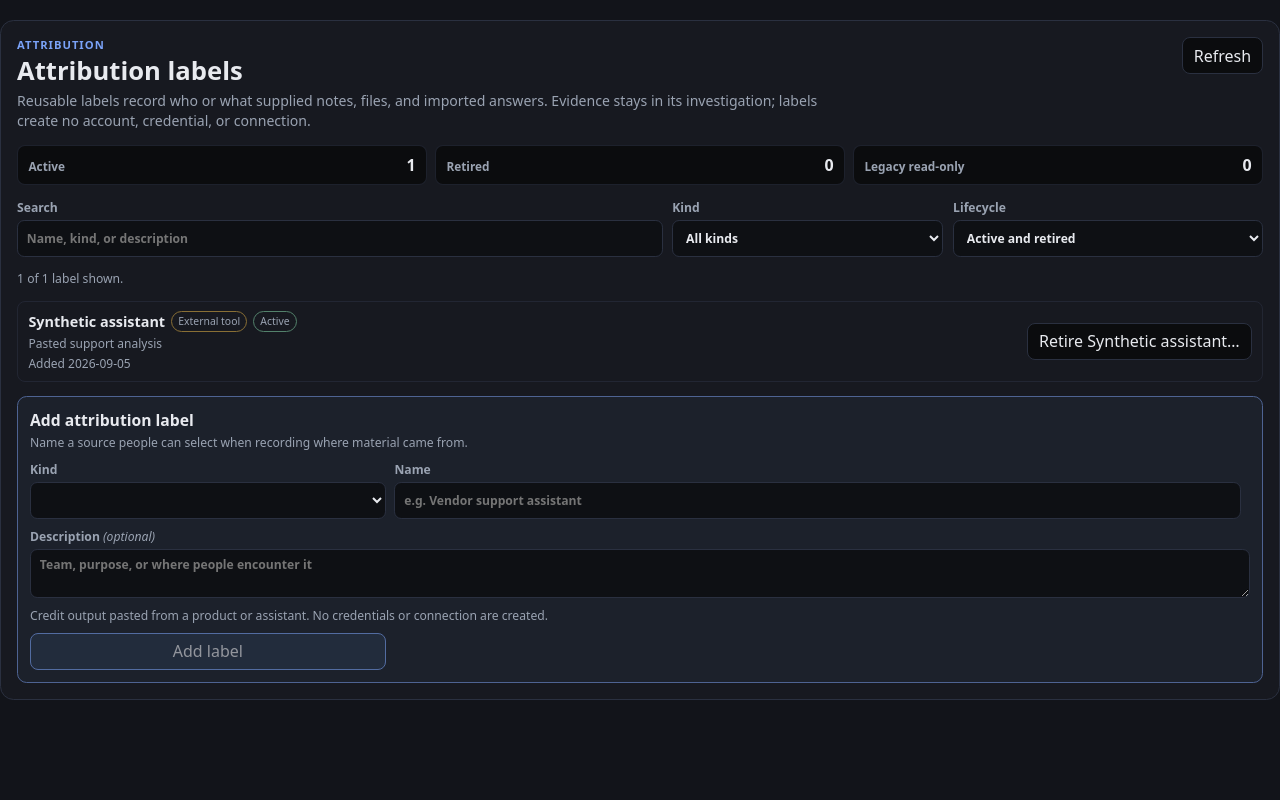
Source Catalog Console › renders a bounded 409 refusal, reconciles the row, and requires a new action
The image size is (1280, 800).
Select "Active" in the dropdown labelled "Lifecycle" at (1108, 238), box x1=953 y1=220 x2=1263 y2=257
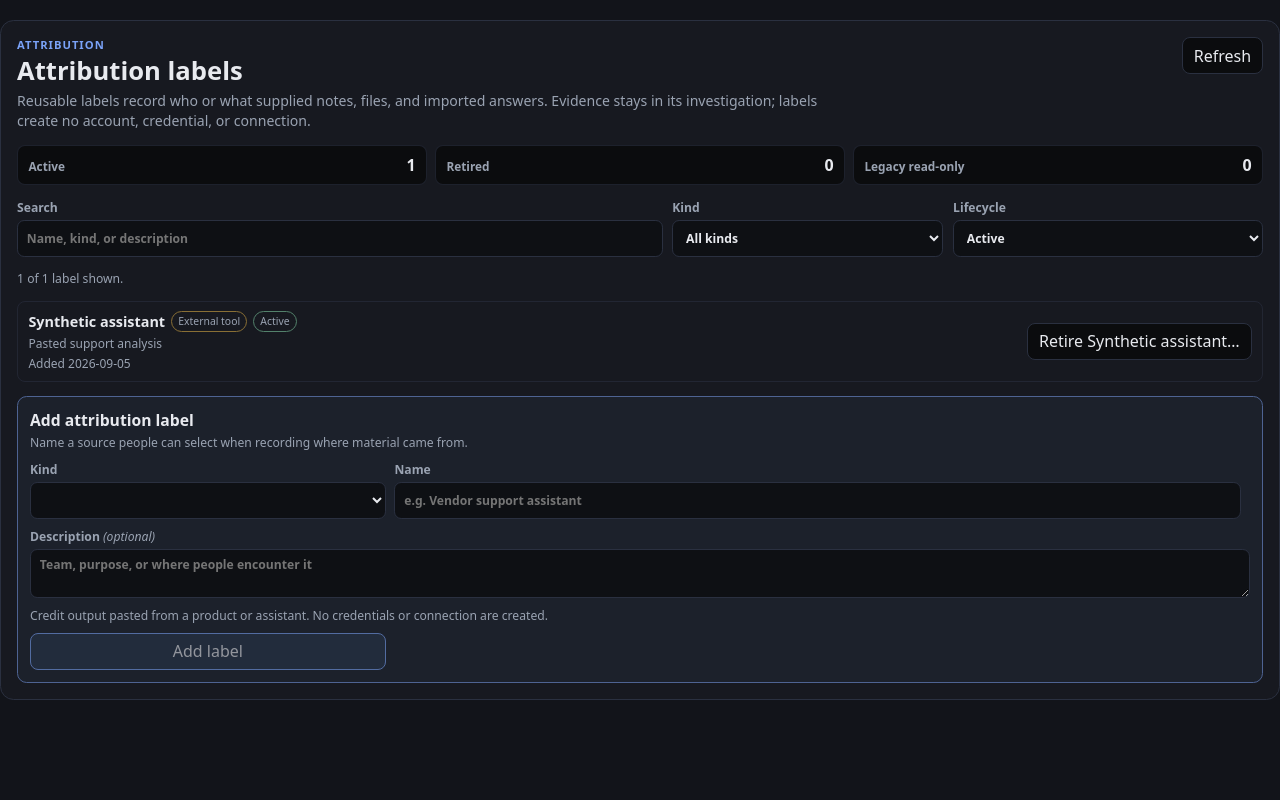
Click the button "Retire Synthetic assistant…".
click(1139, 342)  # box x1=1027 y1=323 x2=1252 y2=360
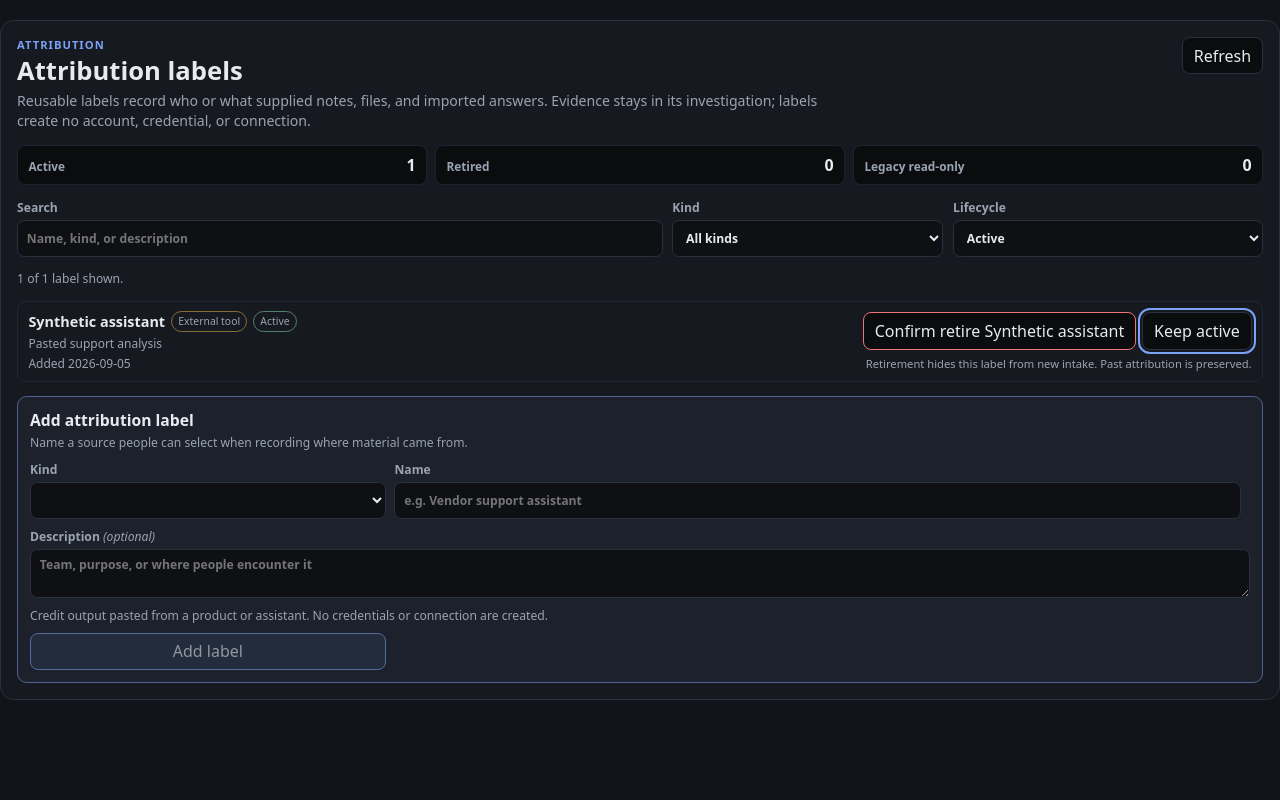
Click the button "Confirm retire Synthetic assistant".
click(999, 331)  # box x1=863 y1=312 x2=1136 y2=350
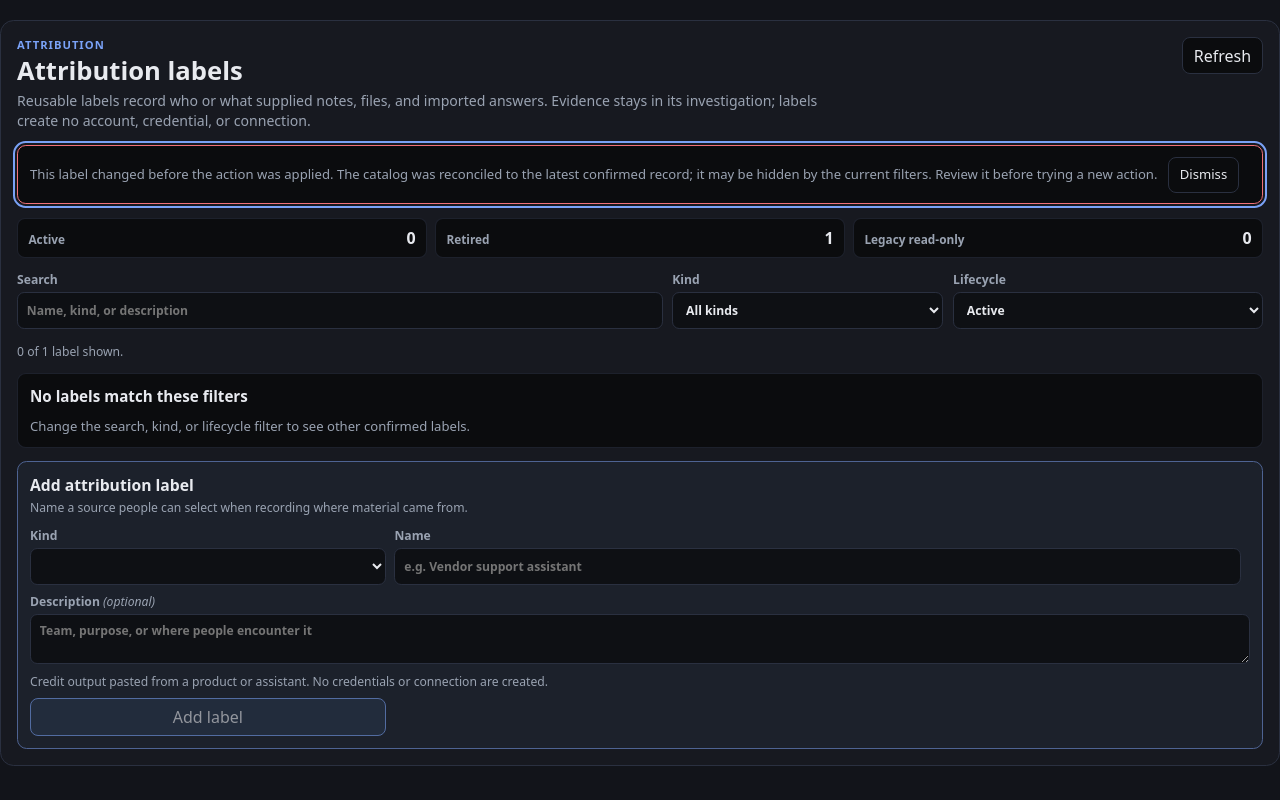
Expected: the button "Restore Synthetic assistant" is not shown
Expected: the message shows "changed before the action", x1=30 y1=165 x2=1158 y2=183
Expected: the message shows "may be hidden by the current filters", x1=30 y1=165 x2=1158 y2=183
Select "Active and retired" in the dropdown labelled "Lifecycle" at (1108, 311), box x1=953 y1=292 x2=1263 y2=329
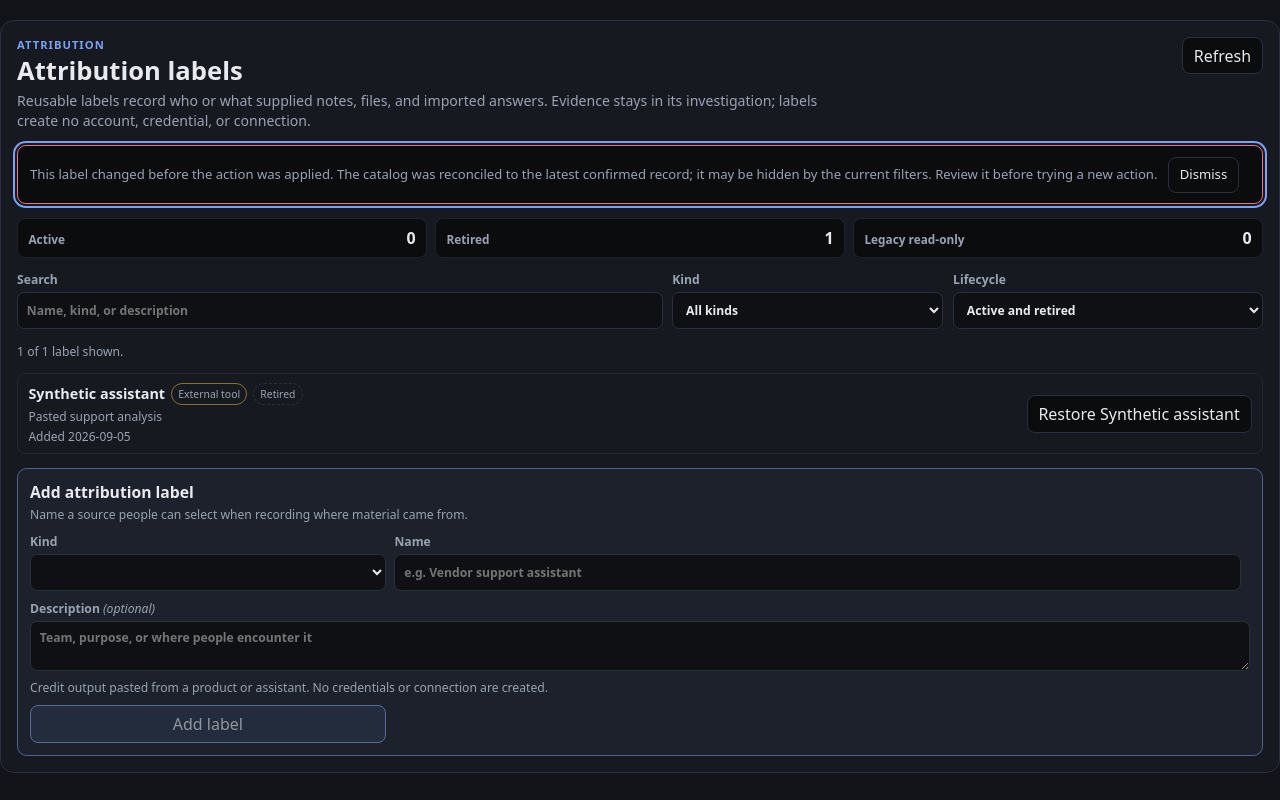
Expected: the button "Restore Synthetic assistant" is shown, x1=1026 y1=395 x2=1252 y2=432
